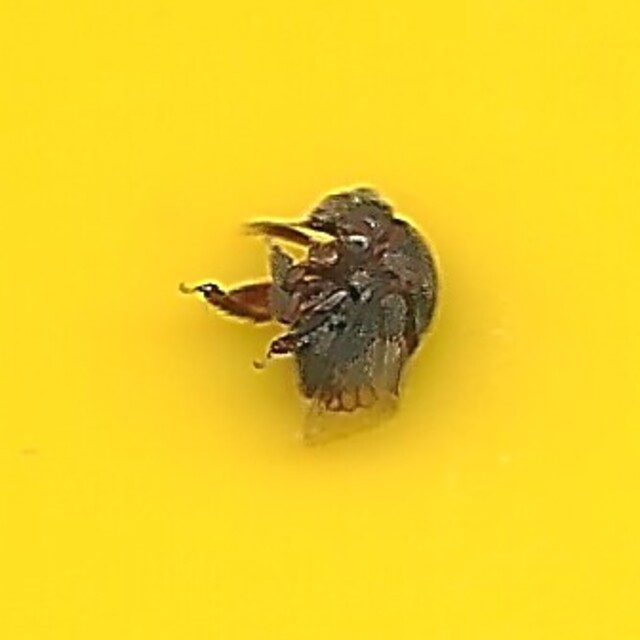Hemiptera: (190, 187, 450, 453)
